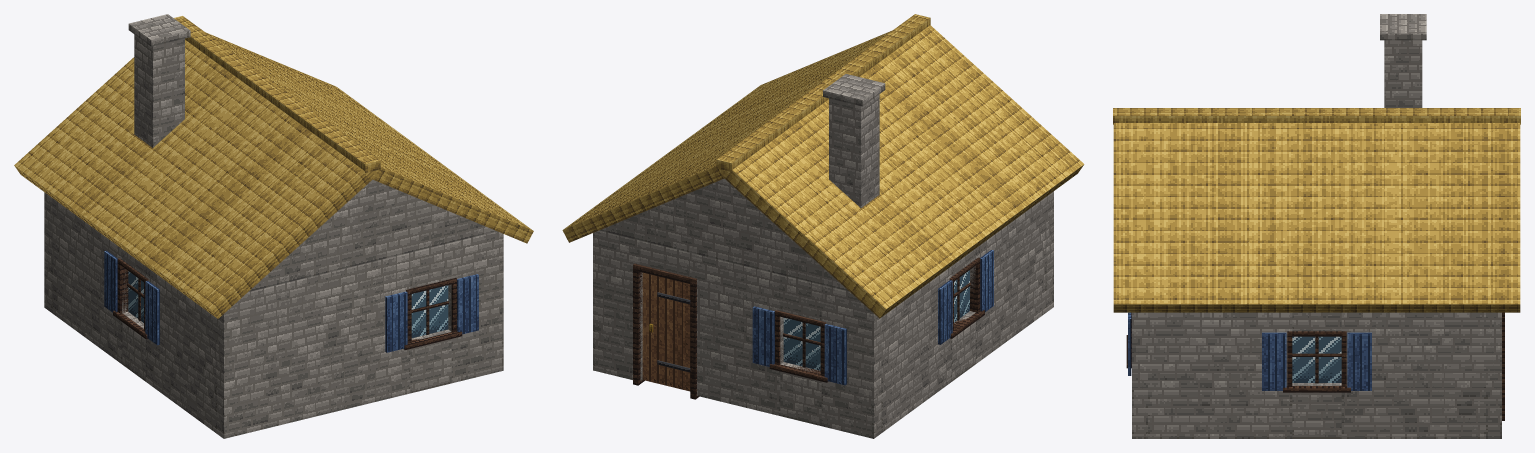
The model's file is house_stone.glb.
3 renders of one model, left to right at view 1: azimuth 30°, elevation 25°; view 2: azimuth 150°, elevation 25°; view 3: azimuth 270°, elevation 25°, orthographic. The views are drawn at different scales.
Parts seen in each view (by area): view 1: house_stone; view 2: house_stone; view 3: house_stone.
Boxes of the visible parts, x1,y1,x2,y2 form: house_stone: (14,14,533,438); house_stone: (562,14,1084,438); house_stone: (1113,14,1520,438).
Size of the model in its own units: 6.23 by 5.57 by 6.62.
Materials: 8 (8 with a texture image).
